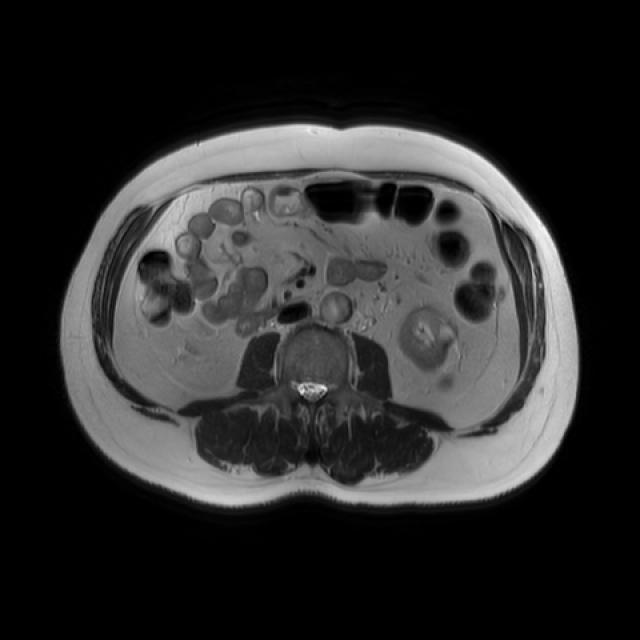sol: (397, 307, 459, 373)
